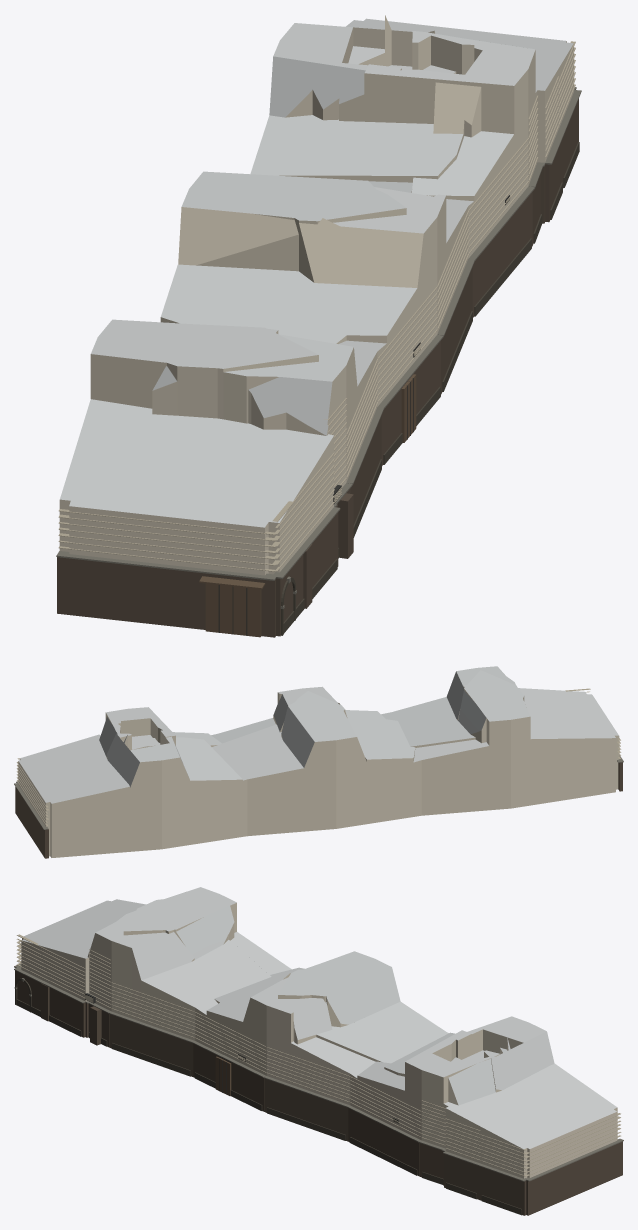
Rendered from depot-scheepvaartmuseum.glb.
3 renders of one model, top to bottom at view 1: azimuth 30°, elevation 25°; view 2: azimuth 150°, elevation 25°; view 3: azimuth 270°, elevation 25°, orthographic. The views are drawn at different scales.
Visible parts, largest first — view 1: depot-scheepvaartmuseum; view 2: depot-scheepvaartmuseum; view 3: depot-scheepvaartmuseum.
Boxes of the visible parts, x1,y1,x2,y2 form: depot-scheepvaartmuseum: (56,15,581,637); depot-scheepvaartmuseum: (14,666,623,858); depot-scheepvaartmuseum: (14,887,623,1215).
Size of the model in its own units: 74.31 by 16.03 by 75.13.
